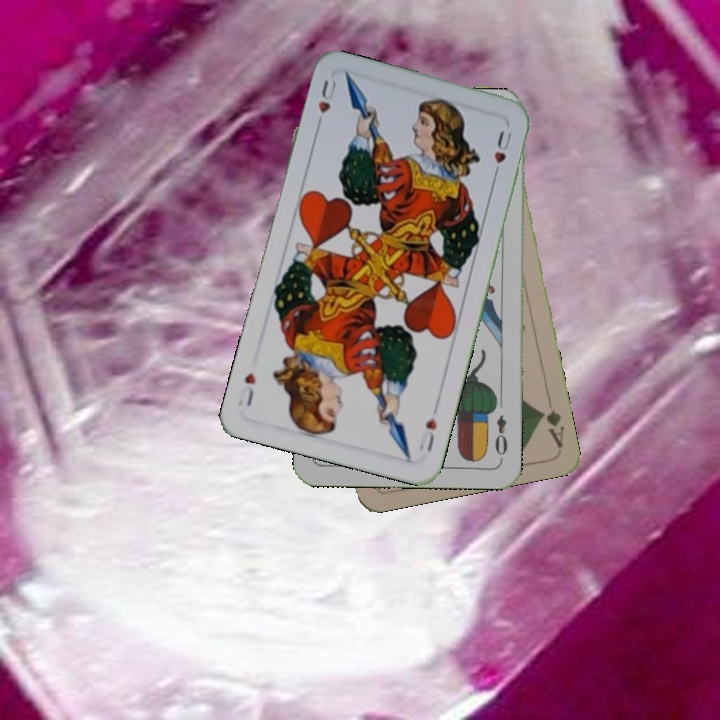EO: (490, 411, 510, 458)
GA: (535, 406, 567, 450)
HU: (312, 76, 339, 132), (415, 413, 440, 454)
